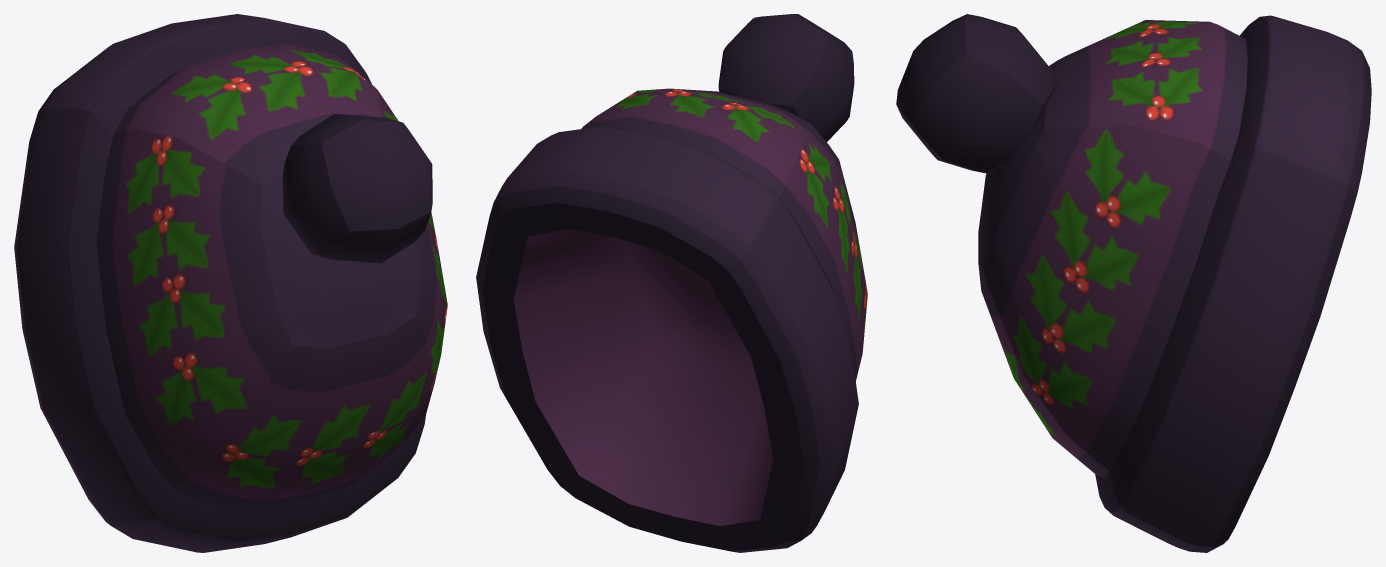
Rendered from ugly ham hat.glb.
3 renders of one model, left to right at view 1: azimuth 30°, elevation 25°; view 2: azimuth 150°, elevation 25°; view 3: azimuth 270°, elevation 25°, orthographic. The views are drawn at different scales.
Visible parts, largest first — view 1: Hat_Winter_LOD0; view 2: Hat_Winter_LOD0; view 3: Hat_Winter_LOD0.
Part boxes in pixels (x1,y1,x2,y2): Hat_Winter_LOD0: (14,14,447,552); Hat_Winter_LOD0: (476,14,867,552); Hat_Winter_LOD0: (896,14,1371,552).
Bounding box in the file's own units: 0.244 × 0.3109 × 0.2664.
Materials: 1 (1 with a texture image).
